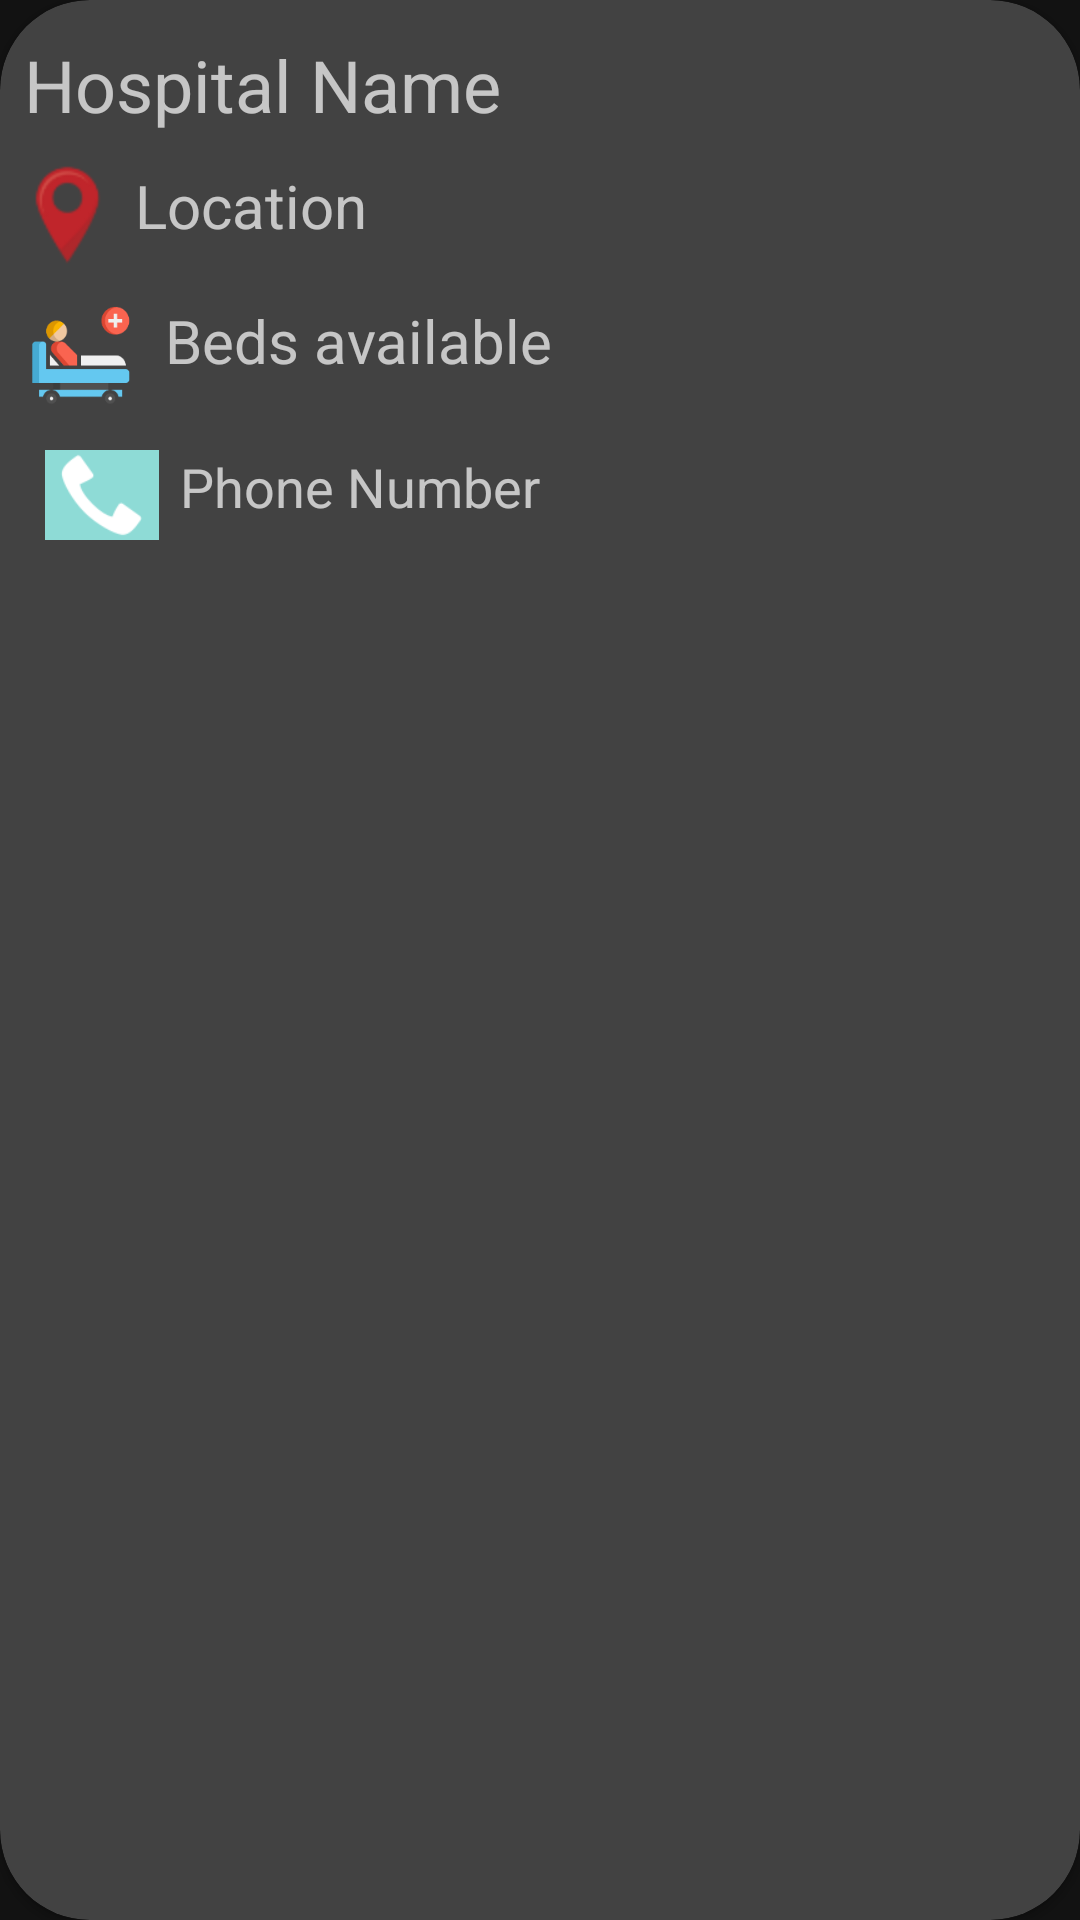

Locate icon controls on the screen. Image size 1080px x 1920px, boxes as (x1, y1, x2, y2).
hospitalbed: (32, 307, 130, 401)
phone call: (45, 450, 159, 540)
